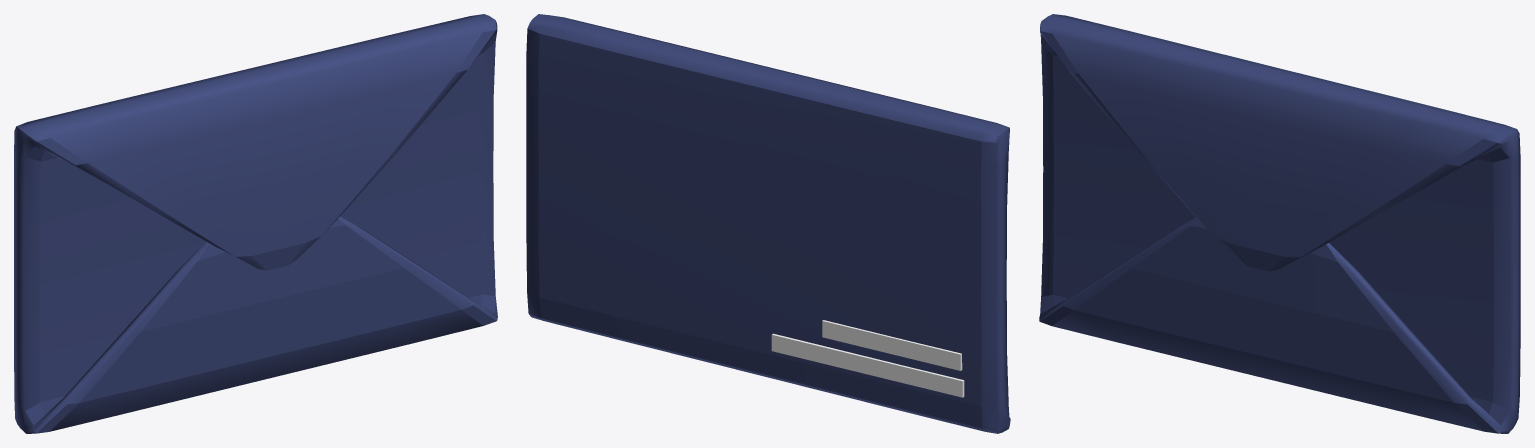
3 views of the same model, side by side, from view 1: azimuth 30°, elevation 25°; view 2: azimuth 150°, elevation 25°; view 3: azimuth 330°, elevation 25° (orthographic).
Parts seen in each view (by area): view 1: Cube; view 2: Cube, Cube002, Cube003; view 3: Cube.
Boxes of the visible parts, left/top/right/bottom form: Cube: left=14, top=14, right=497, bottom=433; Cube: left=526, top=14, right=1010, bottom=433; Cube002: left=771, top=333, right=964, bottom=397; Cube003: left=822, top=320, right=962, bottom=370; Cube: left=1039, top=14, right=1520, bottom=433.
Size of the model in its own units: 2 by 1.22 by 0.2492.
